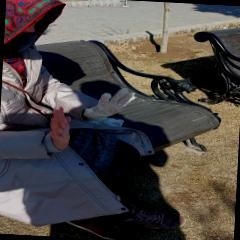gloved: (82, 87, 134, 122)
not-gloved: (46, 105, 68, 151)
